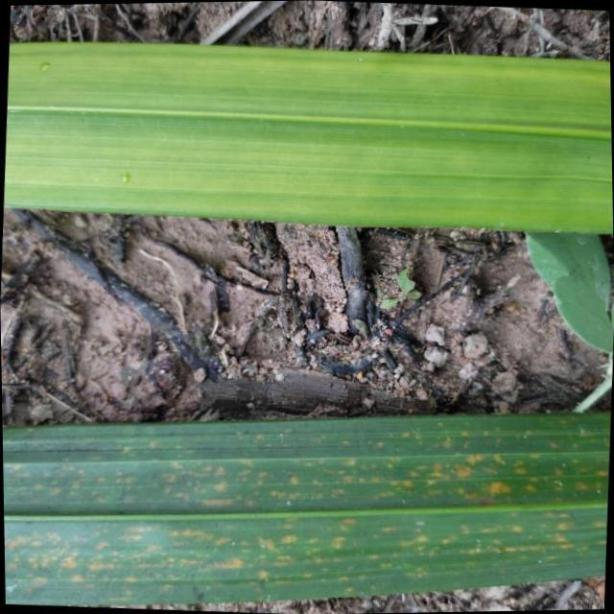nitrogen: (3, 35, 614, 234)
